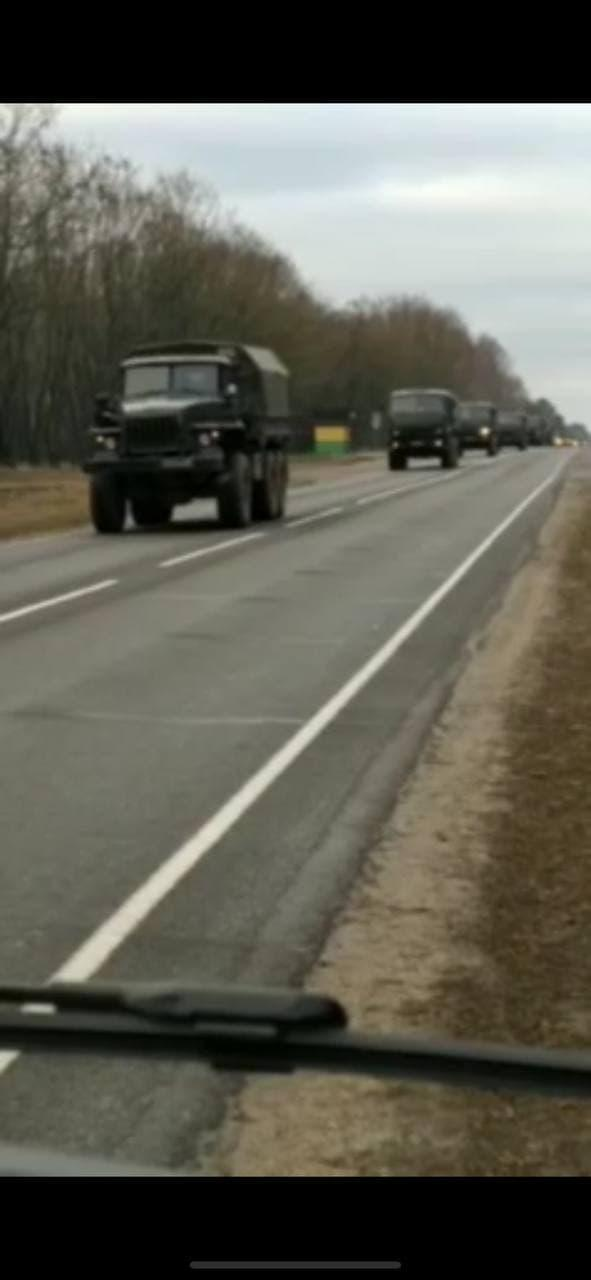truck: (84, 340, 294, 531), (384, 384, 462, 476), (457, 392, 510, 458)
